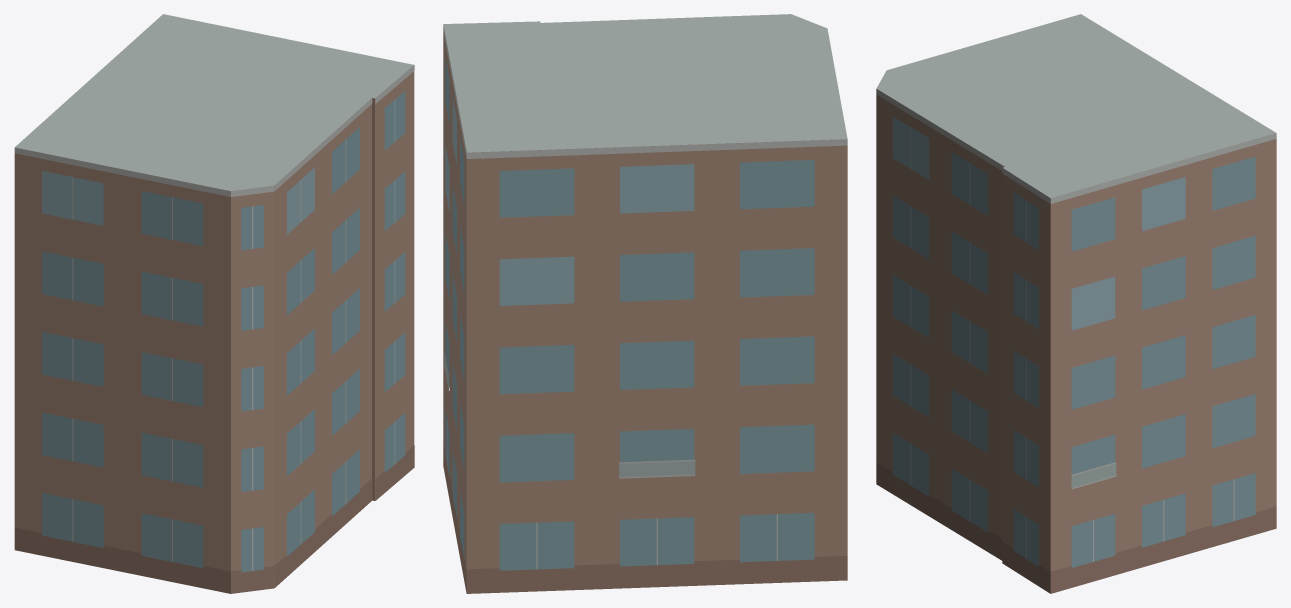
File: survey-upis-33014813.glb
3 views of the same model, side by side, from view 1: azimuth 30°, elevation 25°; view 2: azimuth 150°, elevation 25°; view 3: azimuth 270°, elevation 25° (orthographic). The views are drawn at different scales.
Parts seen in each view (by area): view 1: survey-upis-33014813.tmp; view 2: survey-upis-33014813.tmp; view 3: survey-upis-33014813.tmp.
Part boxes in pixels (left/top/right/bottom): survey-upis-33014813.tmp: left=14, top=14, right=414, bottom=593; survey-upis-33014813.tmp: left=443, top=14, right=847, bottom=593; survey-upis-33014813.tmp: left=876, top=14, right=1276, bottom=593.
Bounding box in the file's own units: 16.64 × 16.65 × 15.27.
